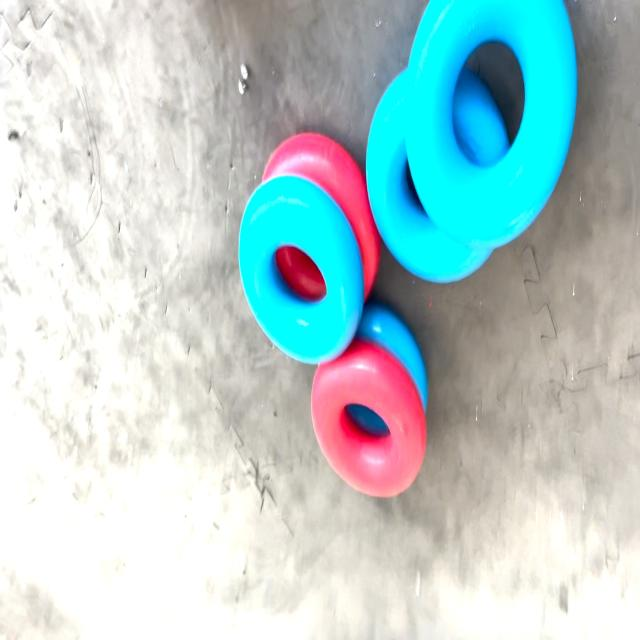Blue-Ring: (405, 0, 578, 249), (366, 71, 491, 282), (239, 176, 364, 364), (356, 302, 428, 409)
Red-Ring: (262, 133, 381, 299), (311, 338, 426, 498)
